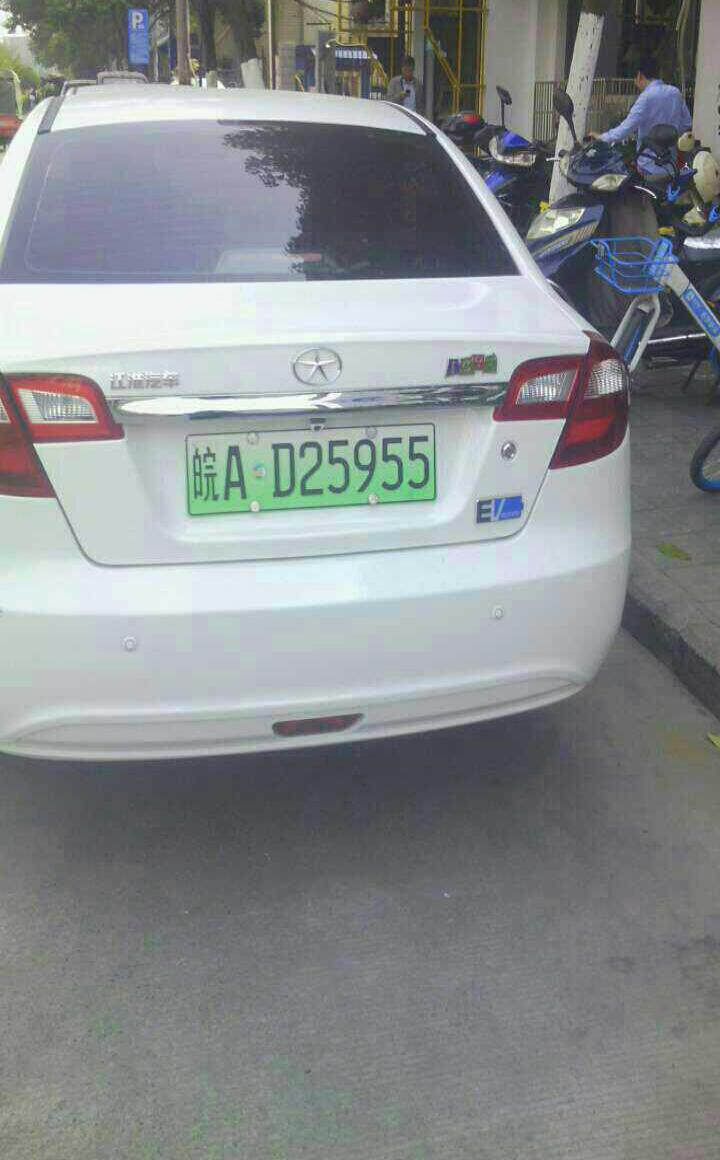car: (177, 434, 439, 513)
